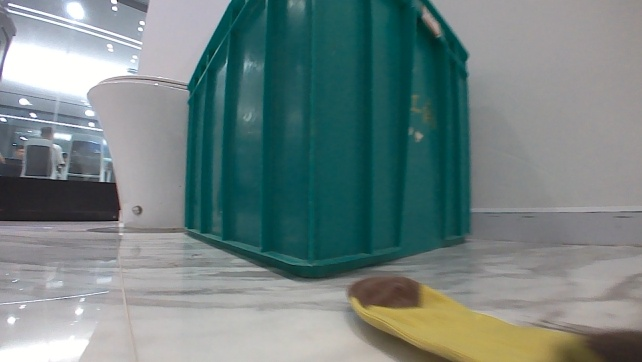socks: (342, 271, 640, 361)
toilet: (80, 70, 190, 230)
